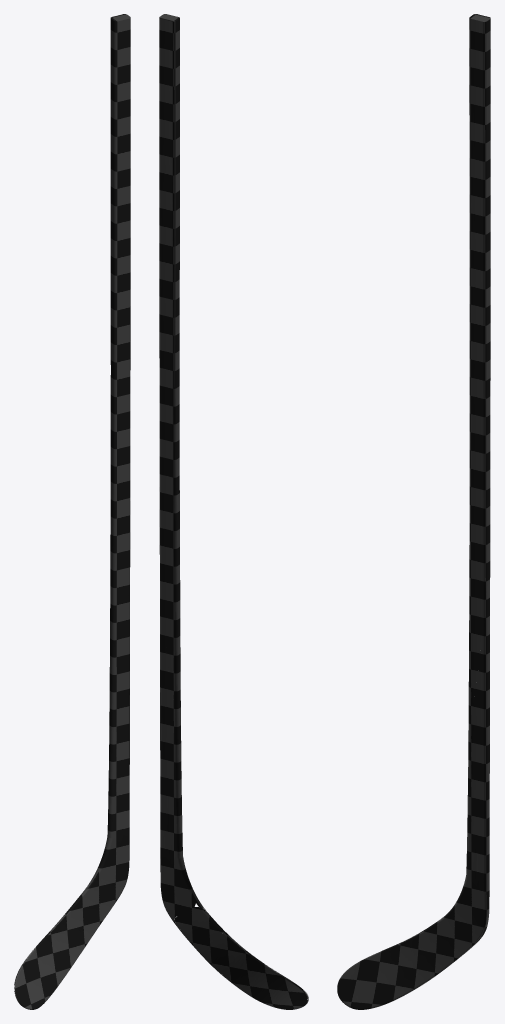
The model's file is P28-SBT.glb.
3 renders of one model, left to right at view 1: azimuth 30°, elevation 25°; view 2: azimuth 150°, elevation 25°; view 3: azimuth 330°, elevation 25°, orthographic. The views are drawn at different scales.
Visible parts, largest first — view 1: geometry_0; view 2: geometry_0; view 3: geometry_0.
Part boxes in pixels (<box>): geometry_0: <box>14,14,130,1009</box>; geometry_0: <box>159,14,308,1009</box>; geometry_0: <box>337,14,490,1009</box>.
Size of the model in its own units: 232 by 1650 by 65.35.
1 material, 1 textured.
